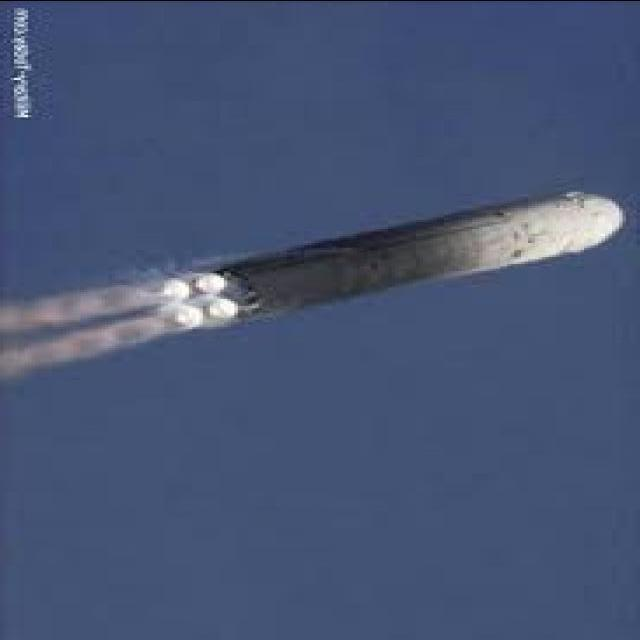Missile: (189, 181, 636, 361)
